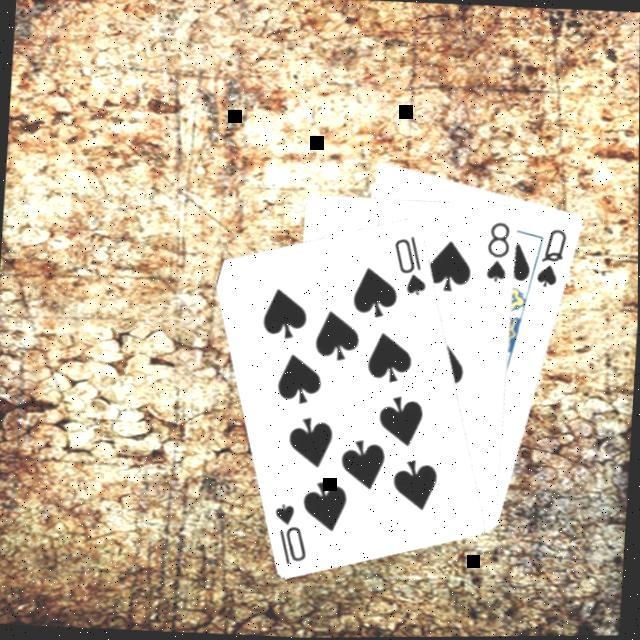10S: (268, 496, 312, 566), (388, 230, 432, 298)
8S: (483, 218, 512, 284)
QS: (533, 222, 570, 290)
